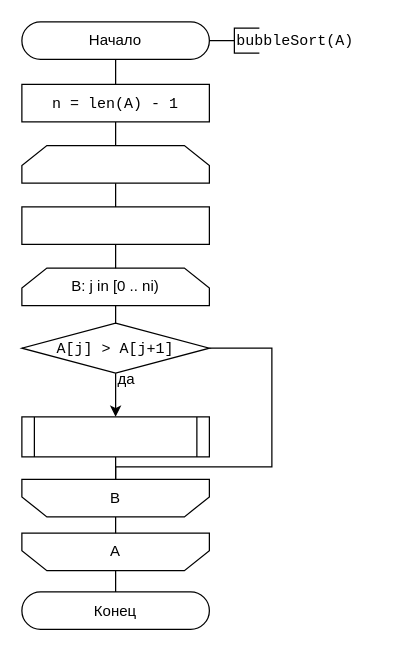
Some shapes in this 394 by 655 pixel diagram are drawn without their labels. Each missing label, with the centre of its shape:
"A: i in [0 .. n)" belongs at [115,163].
"ni = n - i" belongs at [115,225].
"swap(A, i, j+1)" belongs at [115,436].
